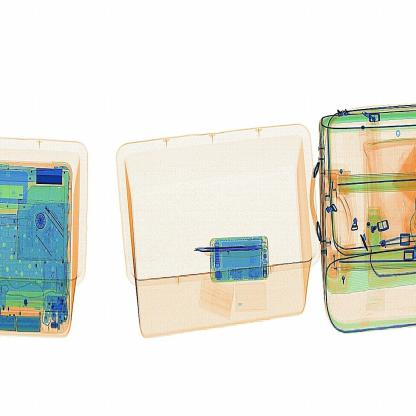pliers: (195, 242, 266, 261)
